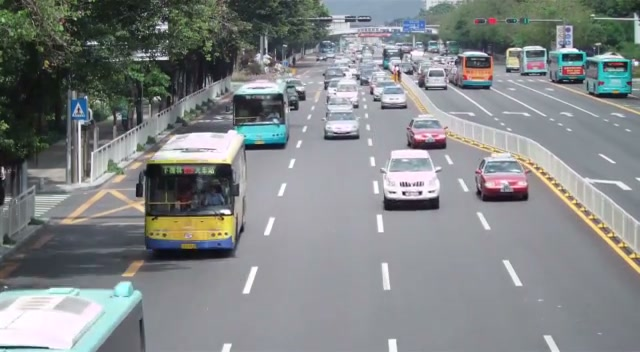bus: (141, 130, 249, 255), (1, 281, 146, 352), (232, 80, 289, 149), (584, 53, 633, 97), (451, 50, 494, 88), (548, 48, 586, 84), (520, 46, 548, 76), (505, 47, 522, 73)
car: (0, 281, 145, 352), (380, 149, 442, 210), (474, 156, 529, 201), (405, 116, 447, 149), (323, 109, 360, 140), (380, 85, 408, 109), (424, 68, 448, 91)
pedestrian: (204, 183, 225, 206)
